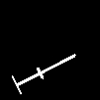double_crochet: (12, 54, 74, 93)
